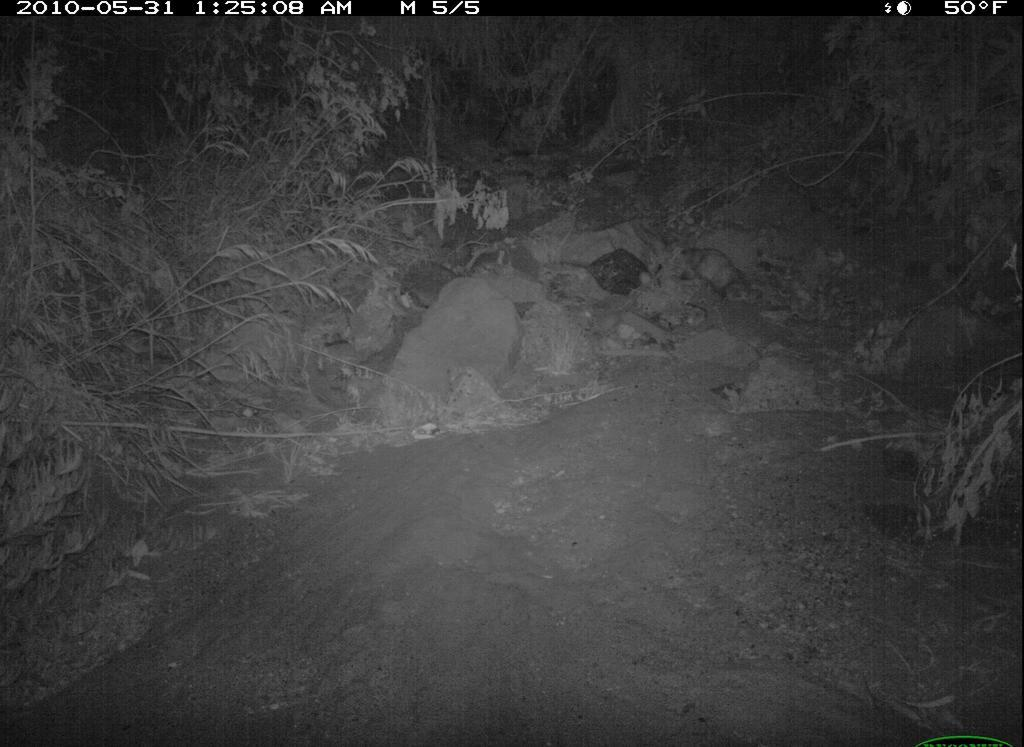opossum: (673, 238, 751, 305)
